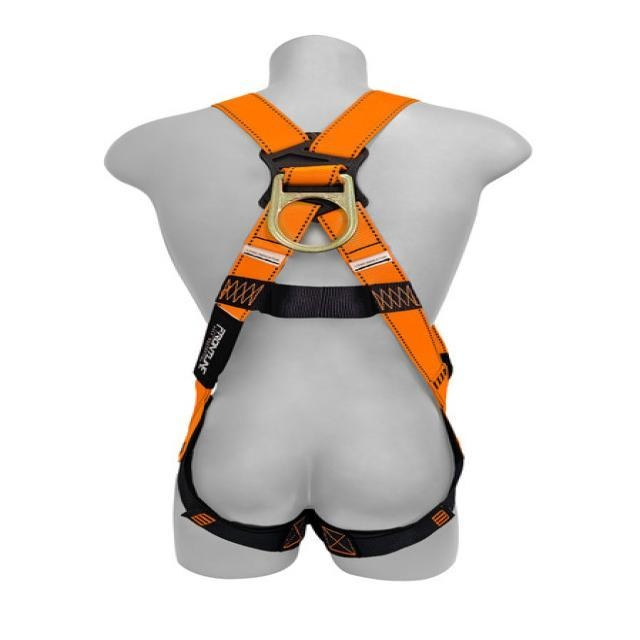Arnes_seguridad: (169, 90, 472, 565)
